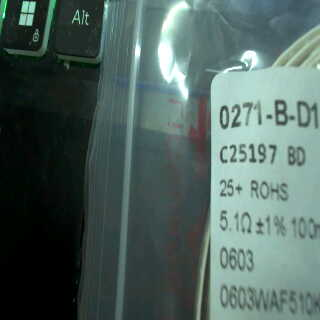5.1R: (214, 207, 259, 240)
